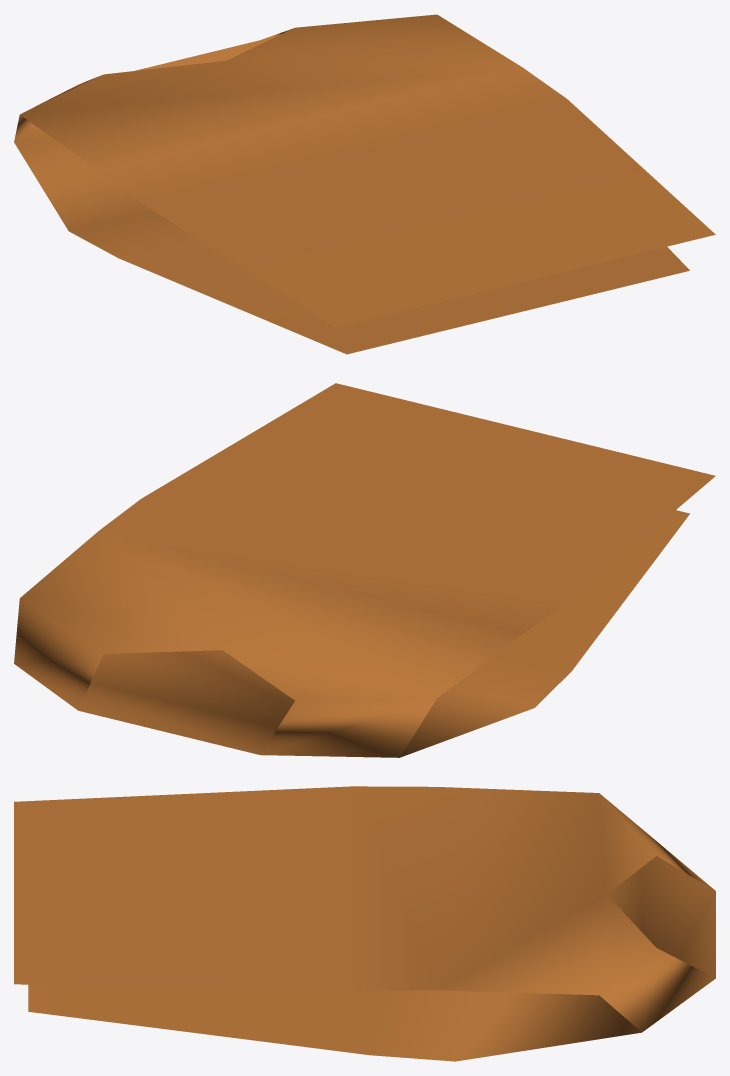
The model's file is copper_chain_body.glb.
3 views of the same model, one above another, from view 1: azimuth 30°, elevation 25°; view 2: azimuth 150°, elevation 25°; view 3: azimuth 270°, elevation 25° (orthographic).
Visible parts, largest first — view 1: copper_chain_body; view 2: copper_chain_body; view 3: copper_chain_body.
Part boxes in pixels (<box>): copper_chain_body: <box>14,14,715,354</box>; copper_chain_body: <box>14,383,715,757</box>; copper_chain_body: <box>14,786,715,1061</box>.
Bounding box in the file's own units: 0.4668 × 0.0595 × 0.619.
